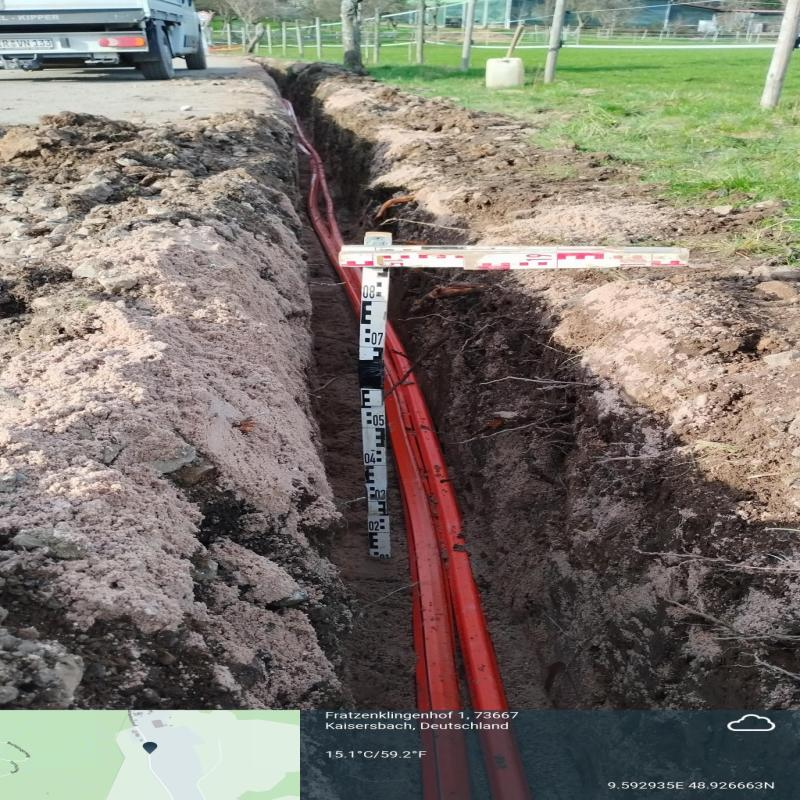Orang-Speednetrohrchen: (383, 321, 505, 711)
